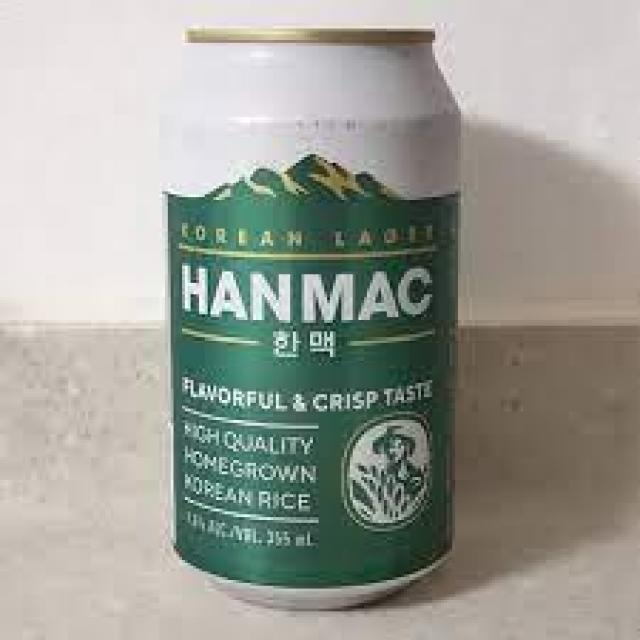beer-can: (153, 25, 470, 620)
